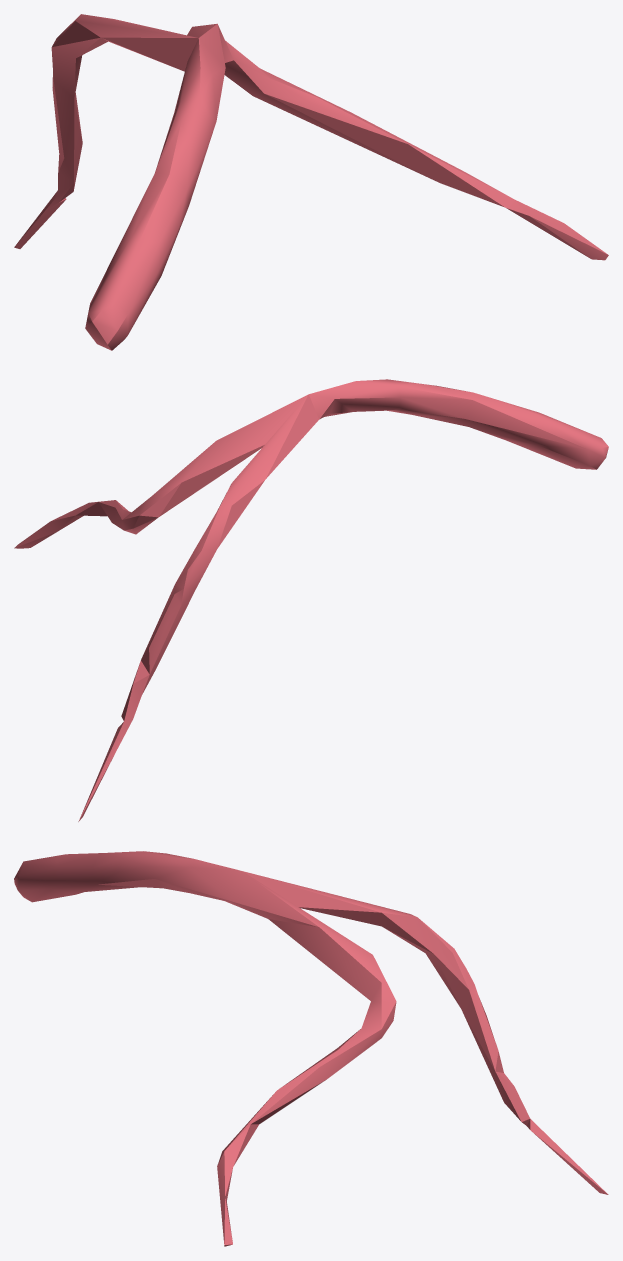
Rendered from fma51230_fj5211.glb.
3 views of the same model, one above another, from view 1: azimuth 30°, elevation 25°; view 2: azimuth 150°, elevation 25°; view 3: azimuth 270°, elevation 25° (orthographic). The views are drawn at different scales.
Parts seen in each view (by area): view 1: FMA51230_FJ5211; view 2: FMA51230_FJ5211; view 3: FMA51230_FJ5211.
Boxes of the visible parts, box(x1,y1,x2,y2) form: FMA51230_FJ5211: box(14, 14, 608, 350); FMA51230_FJ5211: box(14, 379, 608, 821); FMA51230_FJ5211: box(14, 851, 608, 1246).
Bounding box in the file's own units: 0.00967 × 0.00574 × 0.0102.
